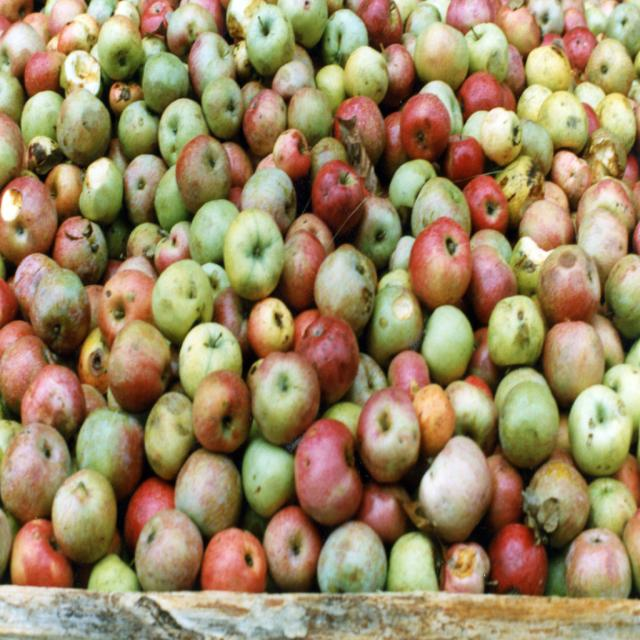Healty Apple: (0, 0, 640, 600), (407, 208, 479, 308)
